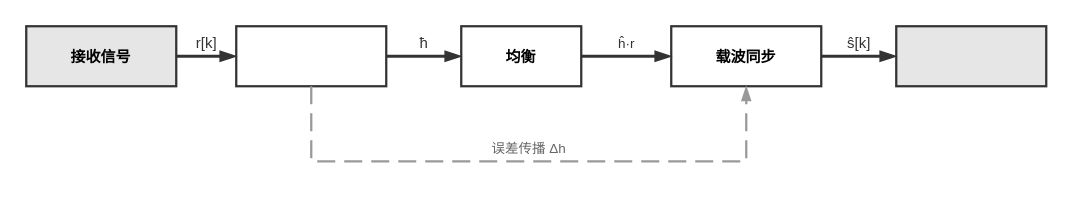
Image size: 1074x201. Some labels were removed from this diagram. The shapes that lost their labels are listed below. From the top down, each one's centre as x and y in pixels, then its label:
At pixel 310 55: "信道估计".
At pixel 970 55: "符号判决".
